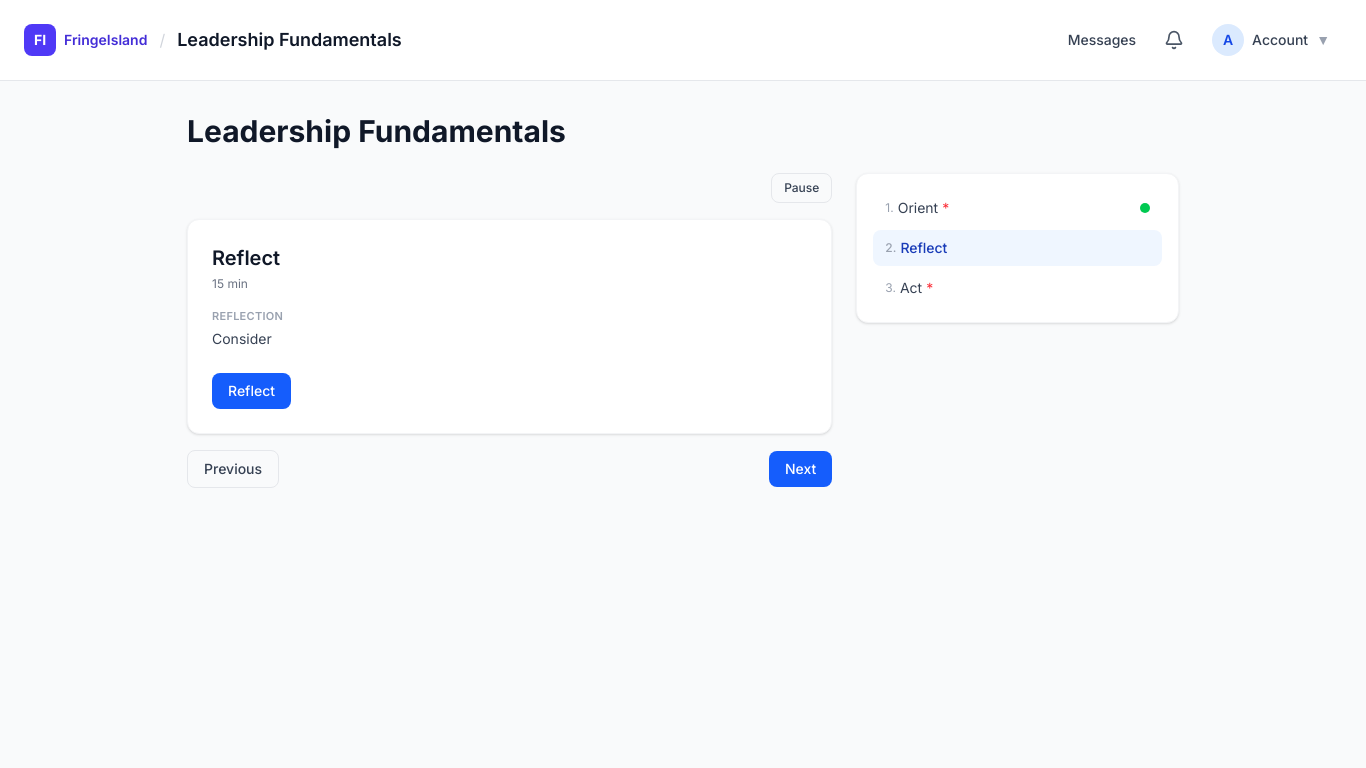
Test case: STORY-3 — completion wiring (optimistic tick, gating, rollback) › rolls the tick back with a retry surface when the completion contract fails
This screenshot has width=1366, height=768.
expect the element with test id "journey-player" is shown: met, box 187,173 -> 1179,488
Step 1. Click the button with test id "step-complete" → point(252, 390), box 212,372 -> 291,408
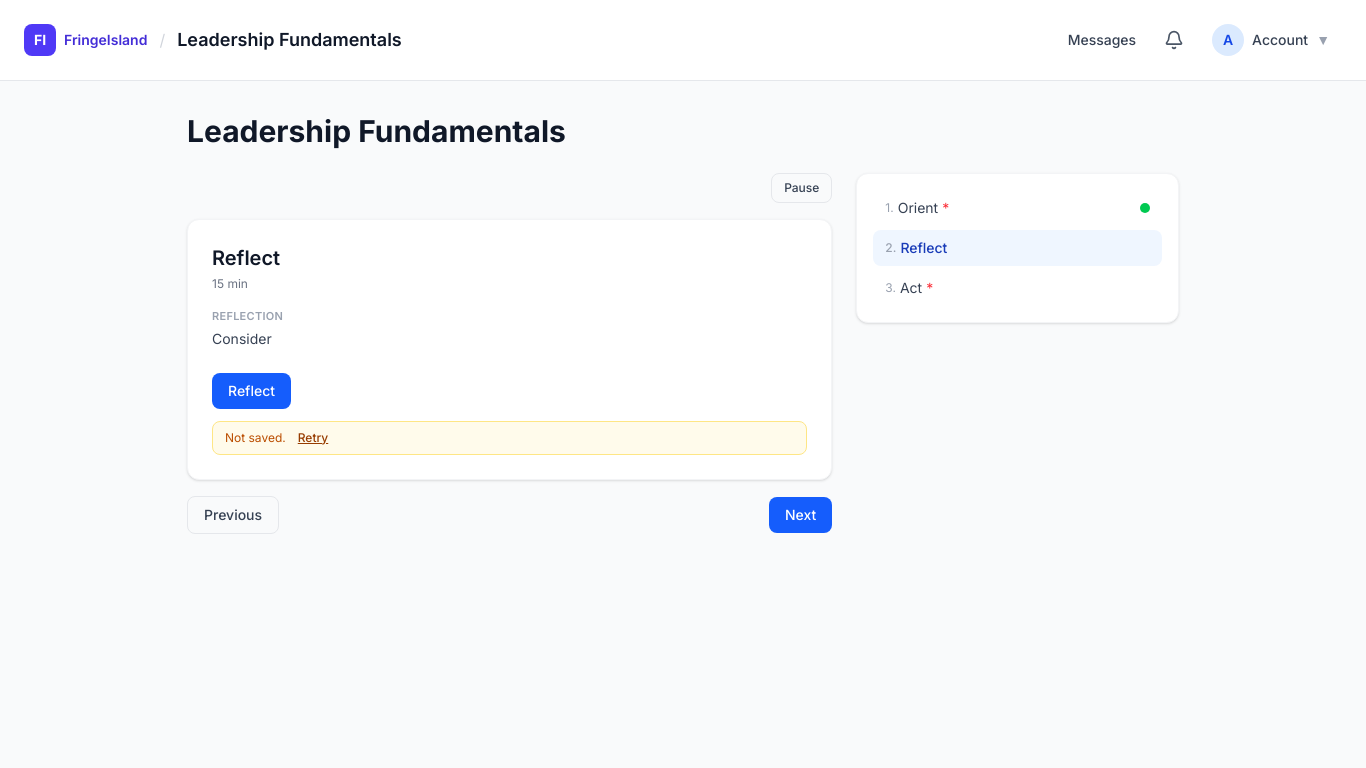
expect the message "Not saved. Retry" is shown: met, box 212,420 -> 807,454
